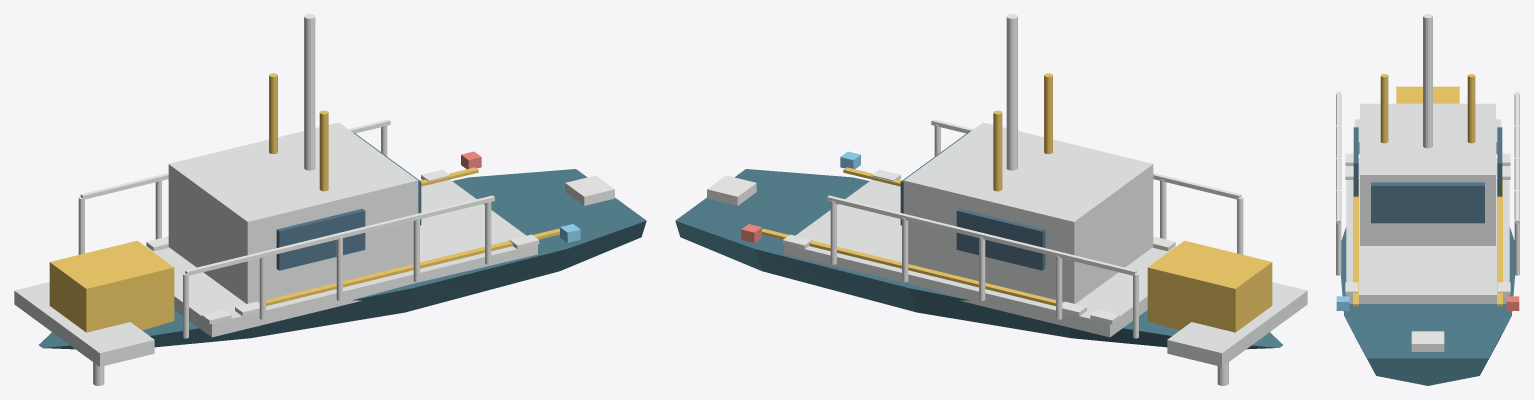
File: marlin_pro_fisher.glb
3 views of the same model, side by side, from view 1: azimuth 30°, elevation 25°; view 2: azimuth 150°, elevation 25°; view 3: azimuth 270°, elevation 25° (orthographic). The views are drawn at different scales.
Parts seen in each view (by area): view 1: 02_Cabin_superstructure, 00_Sculpted_V_planing_hull, 01_Upper_deck, 31_Outboard_engine_cowling, 36_Stern_swim_platform, 05_Cabin_side_glazing, 30_Safety_rail, 37_Fishing_antenna_mast, 12_Racing_pinstripe, 33_Bow_cleat, 24_Safety_rail, 39_Rod_holder (+1 smaller); view 2: 02_Cabin_superstructure, 00_Sculpted_V_planing_hull, 01_Upper_deck, 31_Outboard_engine_cowling, 36_Stern_swim_platform, 04_Cabin_side_glazing, 24_Safety_rail, 37_Fishing_antenna_mast, 11_Racing_pinstripe, 33_Bow_cleat, 30_Safety_rail, 38_Rod_holder (+1 smaller); view 3: 02_Cabin_superstructure, 00_Sculpted_V_planing_hull, 01_Upper_deck, 03_Panoramic_windshield, 37_Fishing_antenna_mast, 31_Outboard_engine_cowling, 33_Bow_cleat, 24_Safety_rail, 30_Safety_rail, 11_Racing_pinstripe, 12_Racing_pinstripe, 38_Rod_holder (+10 smaller).
Boxes of the visible parts, x1,y1,x2,y2 form: 02_Cabin_superstructure: (168,122,418,303); 00_Sculpted_V_planing_hull: (39,169,646,349); 01_Upper_deck: (146,179,537,337); 31_Outboard_engine_cowling: (49,240,174,332); 36_Stern_swim_platform: (14,282,154,366); 05_Cabin_side_glazing: (276,208,365,270); 30_Safety_rail: (185,195,494,275); 37_Fishing_antenna_mast: (304,14,315,170); 12_Racing_pinstripe: (266,228,559,306); 33_Bow_cleat: (565,175,614,205); 24_Safety_rail: (80,119,390,199); 39_Rod_holder: (319,110,328,191); 02_Cabin_superstructure: (903,122,1153,303); 00_Sculpted_V_planing_hull: (675,169,1282,349); 01_Upper_deck: (784,179,1175,337); 31_Outboard_engine_cowling: (1147,240,1272,332); 36_Stern_swim_platform: (1167,282,1307,366); 04_Cabin_side_glazing: (956,208,1045,270); 24_Safety_rail: (827,195,1136,275); 37_Fishing_antenna_mast: (1006,14,1017,170); 11_Racing_pinstripe: (762,228,1055,306); 33_Bow_cleat: (707,175,756,205); 30_Safety_rail: (931,119,1241,199); 38_Rod_holder: (993,110,1002,191); 02_Cabin_superstructure: (1360,103,1495,245); 00_Sculpted_V_planing_hull: (1341,227,1514,385); 01_Upper_deck: (1346,158,1509,303); 03_Panoramic_windshield: (1371,182,1484,223); 37_Fishing_antenna_mast: (1423,14,1432,148); 31_Outboard_engine_cowling: (1396,86,1459,103); 33_Bow_cleat: (1411,331,1444,351); 24_Safety_rail: (1515,91,1519,223); 30_Safety_rail: (1336,91,1340,223); 11_Racing_pinstripe: (1497,179,1502,306); 12_Racing_pinstripe: (1353,179,1358,306); 38_Rod_holder: (1467,74,1475,143).
Size of the model in its own units: 5.19 by 2.74 by 1.69.
